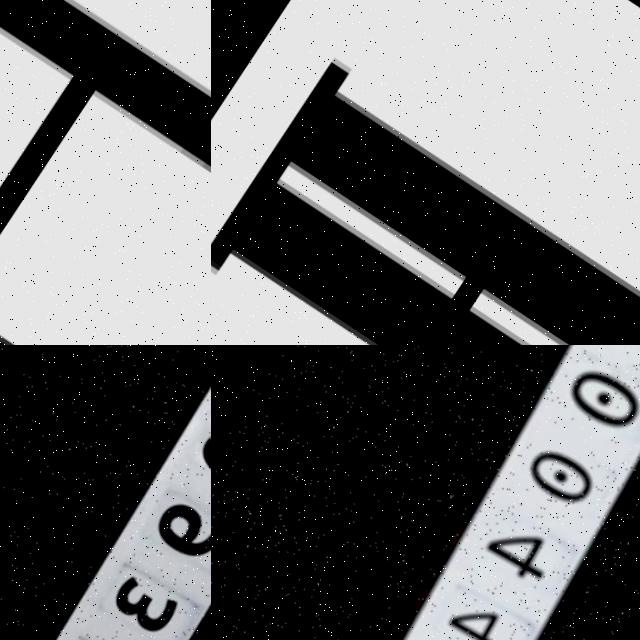0: (504, 424, 612, 526), (544, 345, 640, 452), (166, 396, 211, 516)
3: (81, 548, 197, 640)
4: (460, 497, 571, 602), (423, 577, 522, 640)
9: (118, 468, 211, 592)
H: (211, 33, 640, 345)
